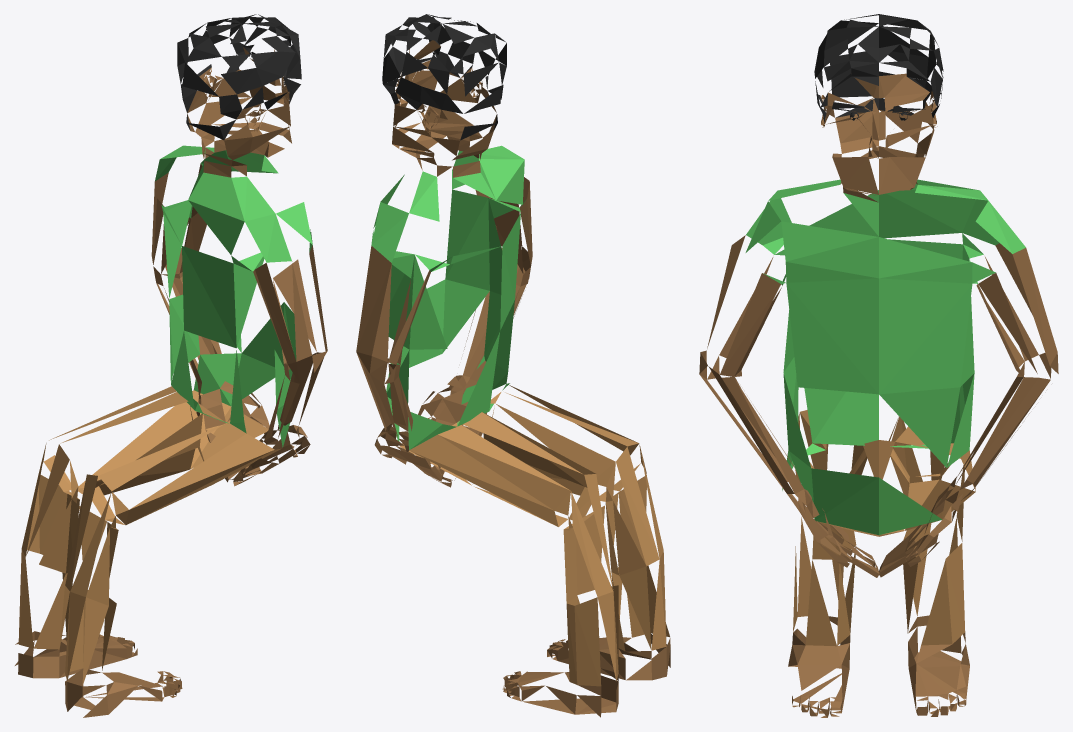
Rendered from passenger-seated.glb.
The picture shows the model from 3 angles, left to right: view 1: azimuth 30°, elevation 25°; view 2: azimuth 150°, elevation 25°; view 3: azimuth 270°, elevation 25°; orthographic projection. The views are drawn at different scales.
Parts seen in each view (by area): view 1: Human_Mesh; view 2: Human_Mesh; view 3: Human_Mesh.
Boxes of the visible parts, box(x1,y1,x2,y2) form: Human_Mesh: box(15, 14, 327, 717); Human_Mesh: box(356, 14, 670, 717); Human_Mesh: box(699, 14, 1058, 717).
Size of the model in its own units: 0.571 by 1.37 by 0.6009.
1 material, 1 textured.
